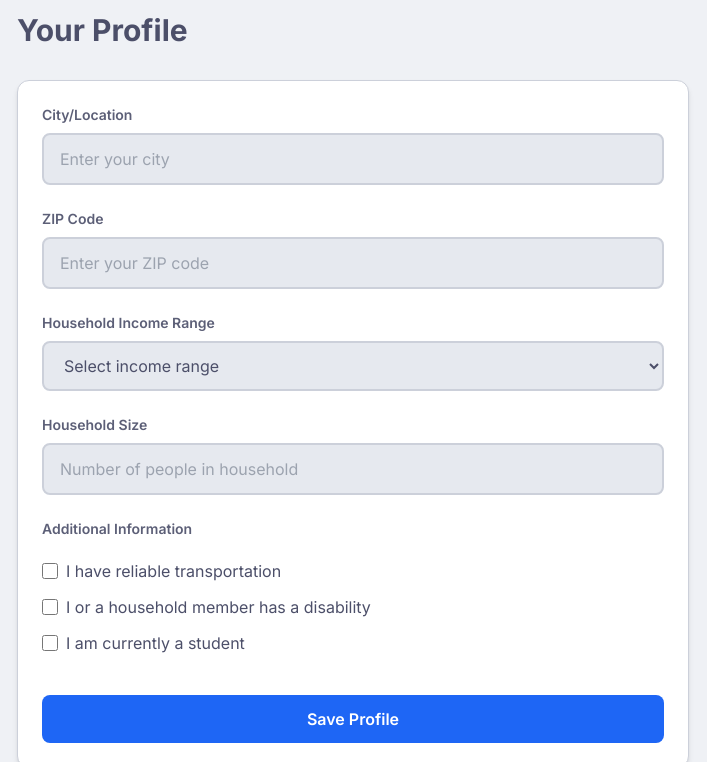
Scenario: Profile Page - Survey Form Tests › User fills out survey and sees success message › should successfully submit profile form (survey) and show success message
The image size is (707, 762).
Note: User fills out the survey form
Type "Seattle" into the field labelled "City/Location". click: (353,159)
box: [42,133,664,185]
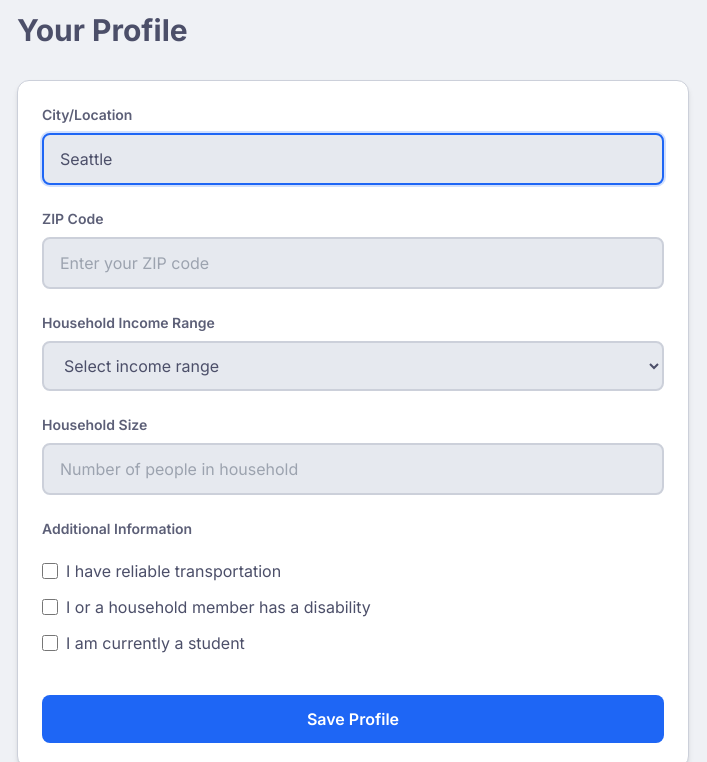
Type "98101" into the field labelled "ZIP Code". click: (353,263)
box: [42,237,664,289]
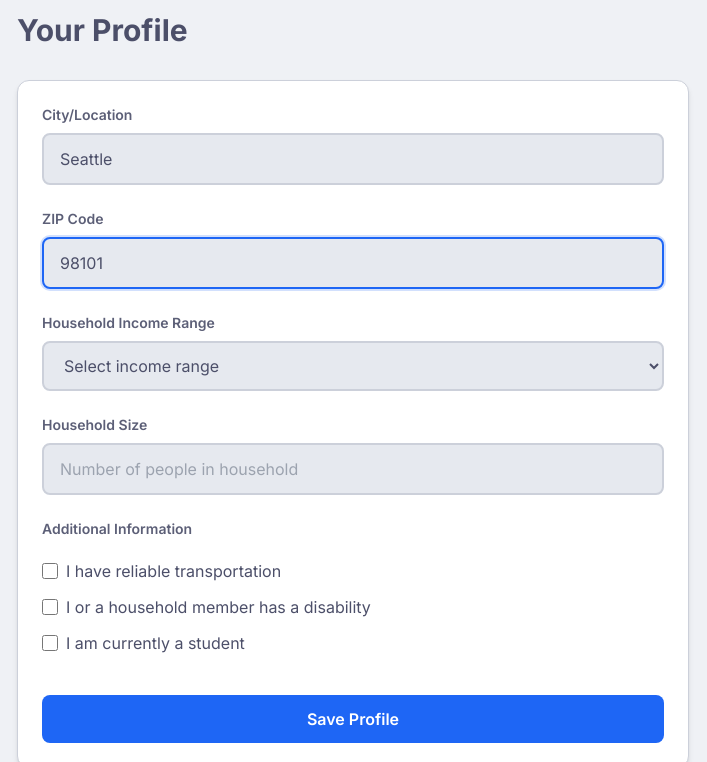
Select "$15,000 - $25,000" in the dropdown labelled "Household Income Range". click: (353,366)
box: [42,341,664,391]
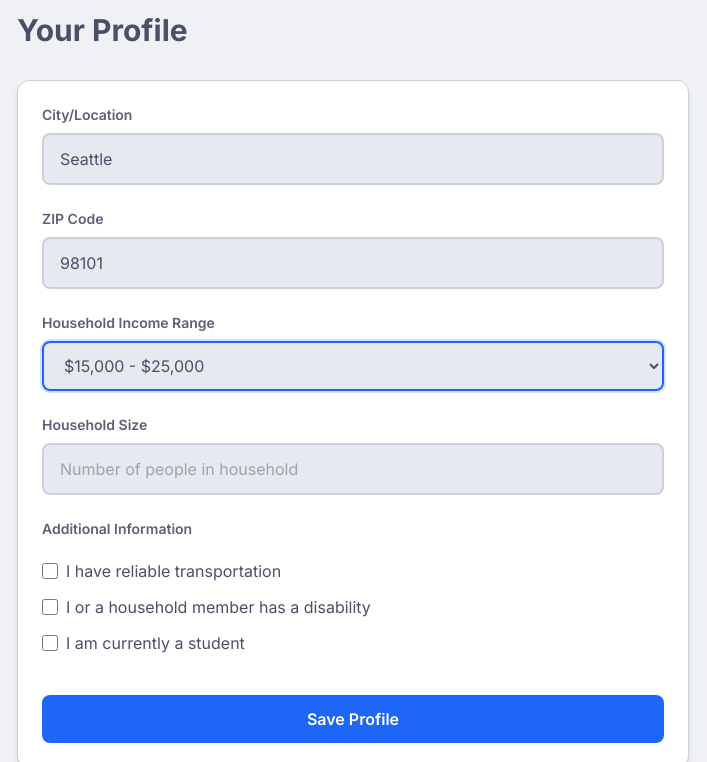
Type "3" into the number field labelled "Household Size". click: (353,469)
box: [42,443,664,495]
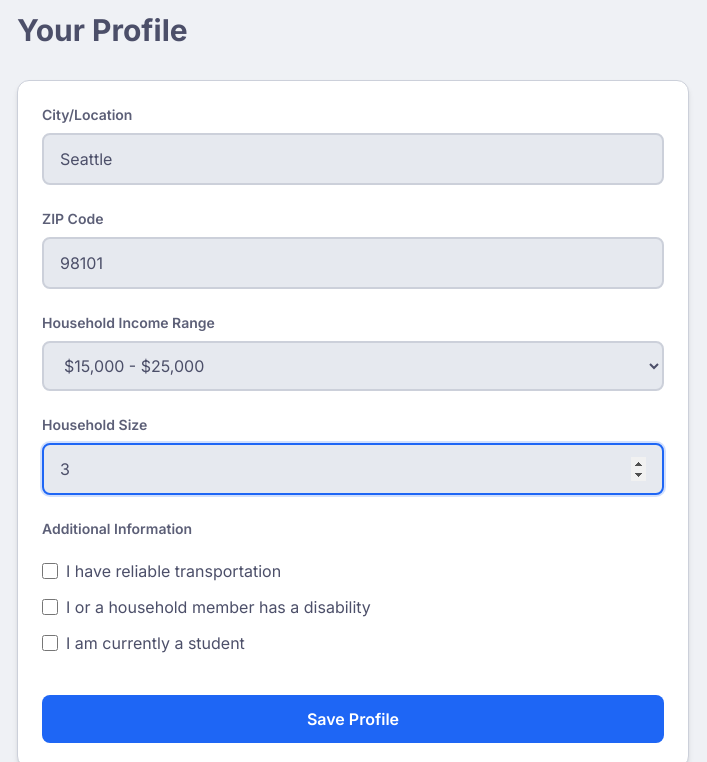
Click the checkbox labelled "I have reliable transportation". click: (50,571)
box: [42,563,58,579]
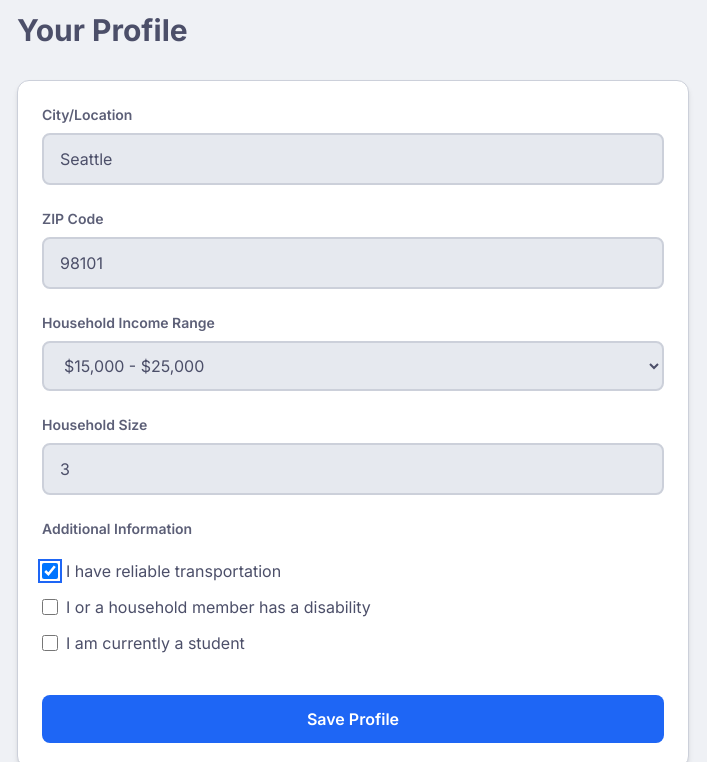
Note: Submit the form
Click the button "Save Profile". click: (353,719)
box: [42,695,664,743]
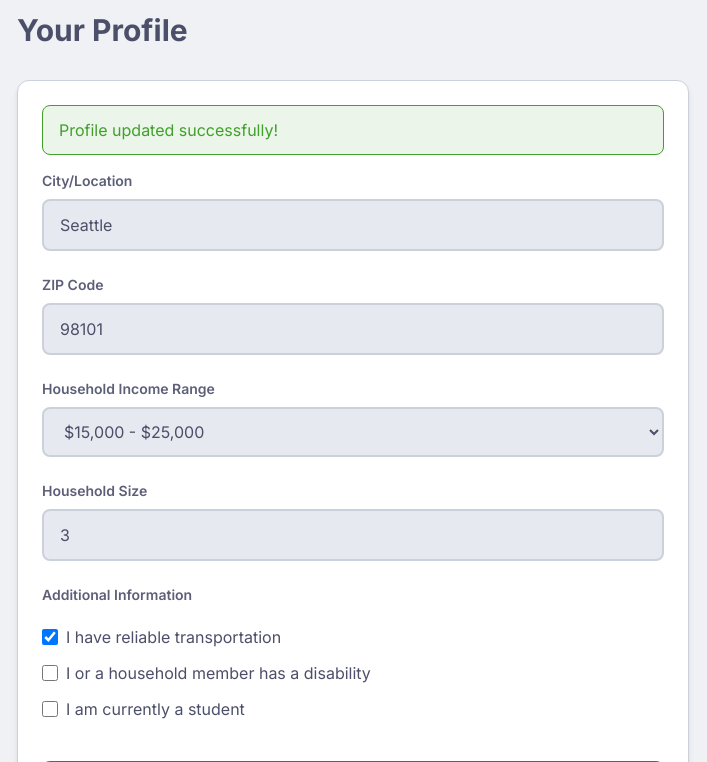
Result: the text "Profile updated successfully!" is shown at [42,105,664,155]
